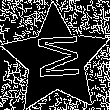M_W: (30, 35, 82, 84)
